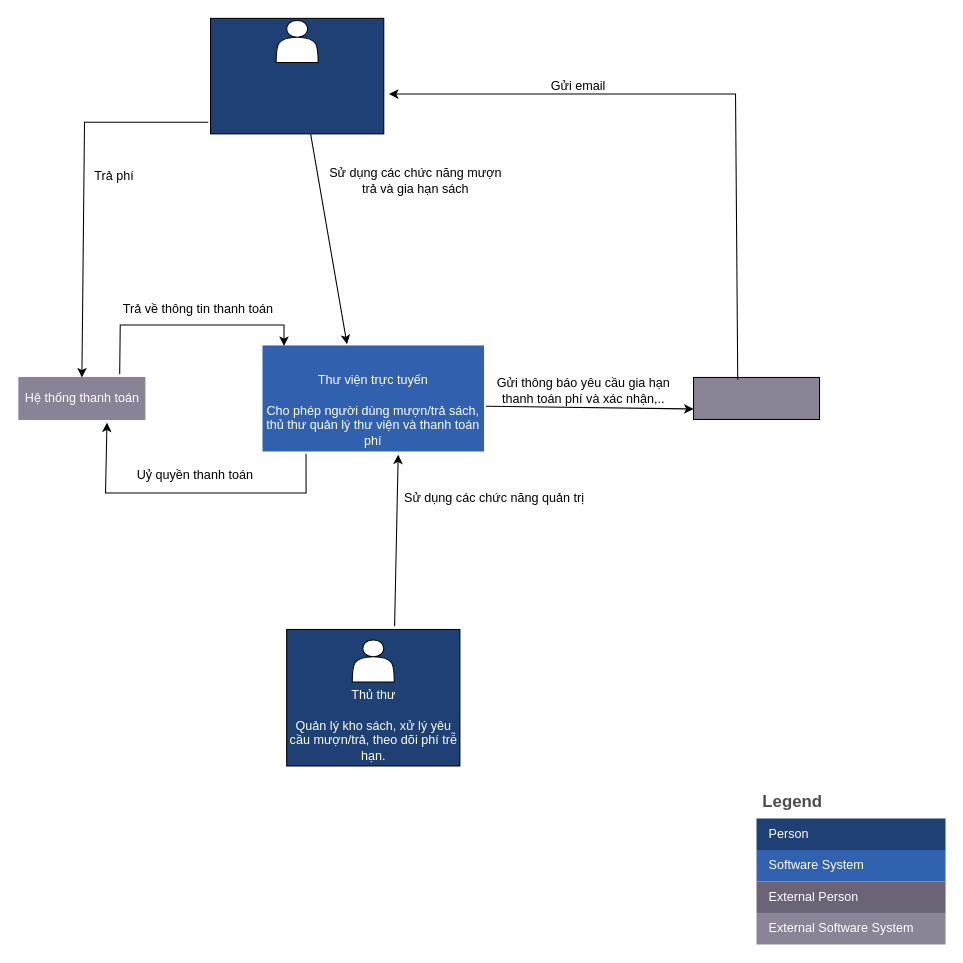
The diagram is 963 pixels wide and 963 high, and some of its shapes have lost their labels. The box of each missing label's shape, as (x1, y1, x2, y2) in pixels:
Hệ thống email: (692, 376, 820, 419)
Người đọc Tìm kiếm, mượn, gia hạn và trả sách: (209, 17, 384, 134)
